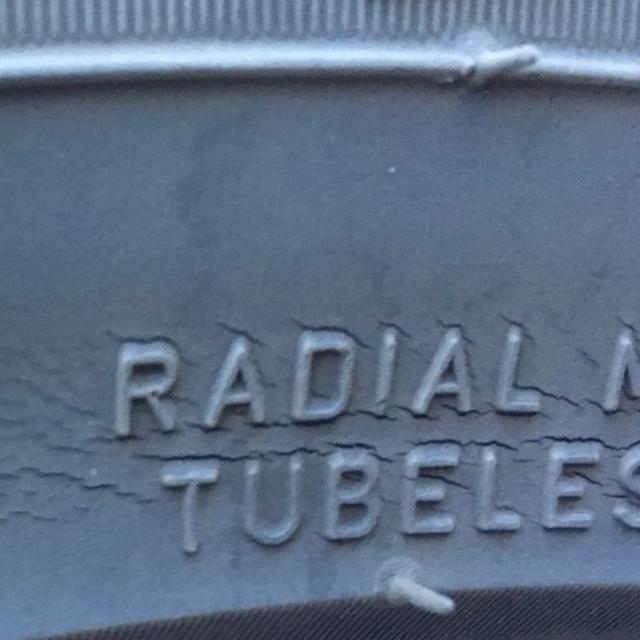Cracks: (0, 302, 640, 573)
